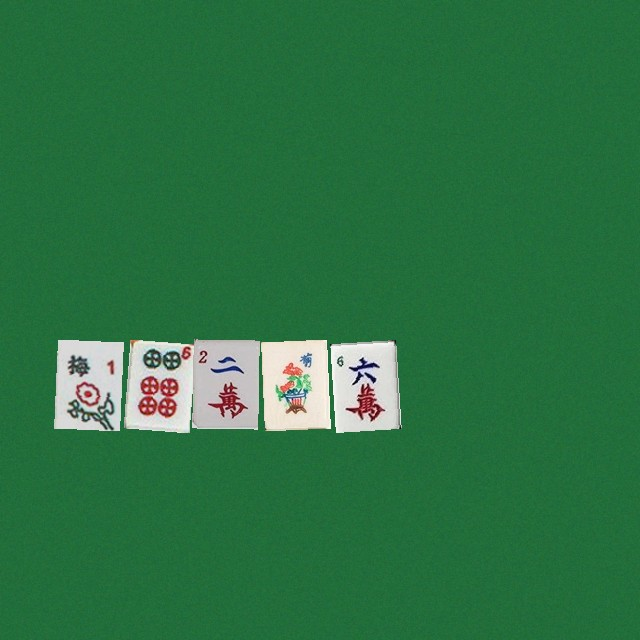tile: (54, 339, 120, 428), (123, 339, 189, 428), (192, 339, 258, 428), (261, 339, 327, 428), (330, 339, 396, 428)
